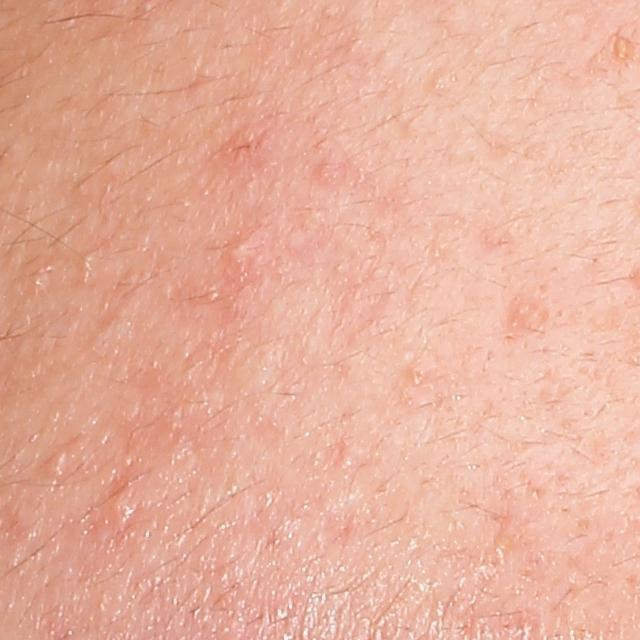comedo: (44, 450, 72, 482), (106, 488, 131, 522), (402, 361, 430, 391), (226, 240, 255, 266), (431, 69, 454, 95), (612, 33, 631, 63), (82, 252, 98, 275)
